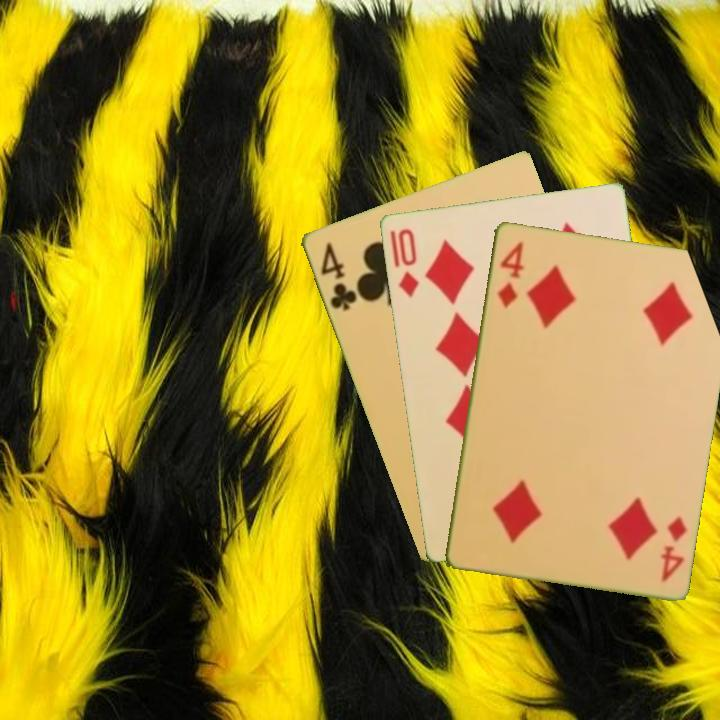10d: (394, 224, 422, 300)
4c: (316, 238, 360, 313)
4d: (656, 511, 689, 585), (493, 237, 526, 310)
